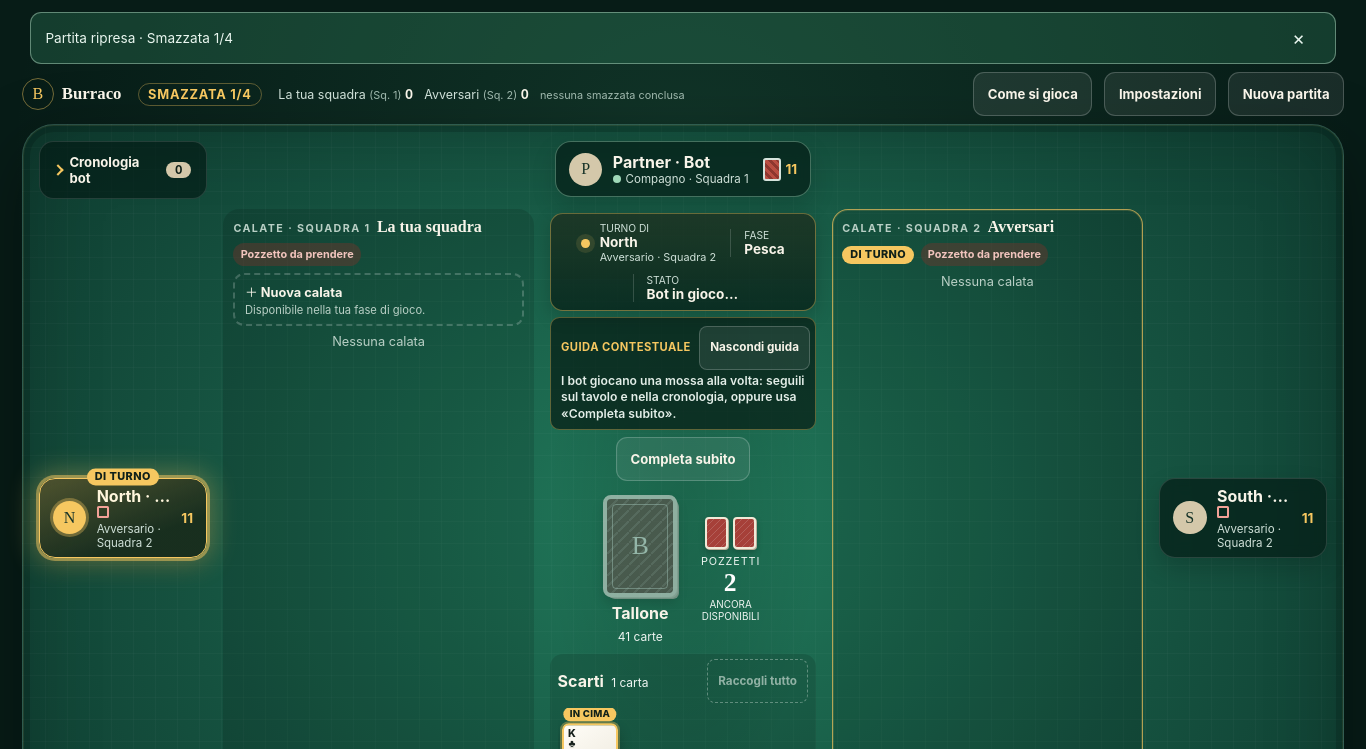
Test: App M31 audio › restores valid preferences after a reload
Click the button "Impostazioni": (1160, 94) x1=1104 y1=72 x2=1216 y2=116
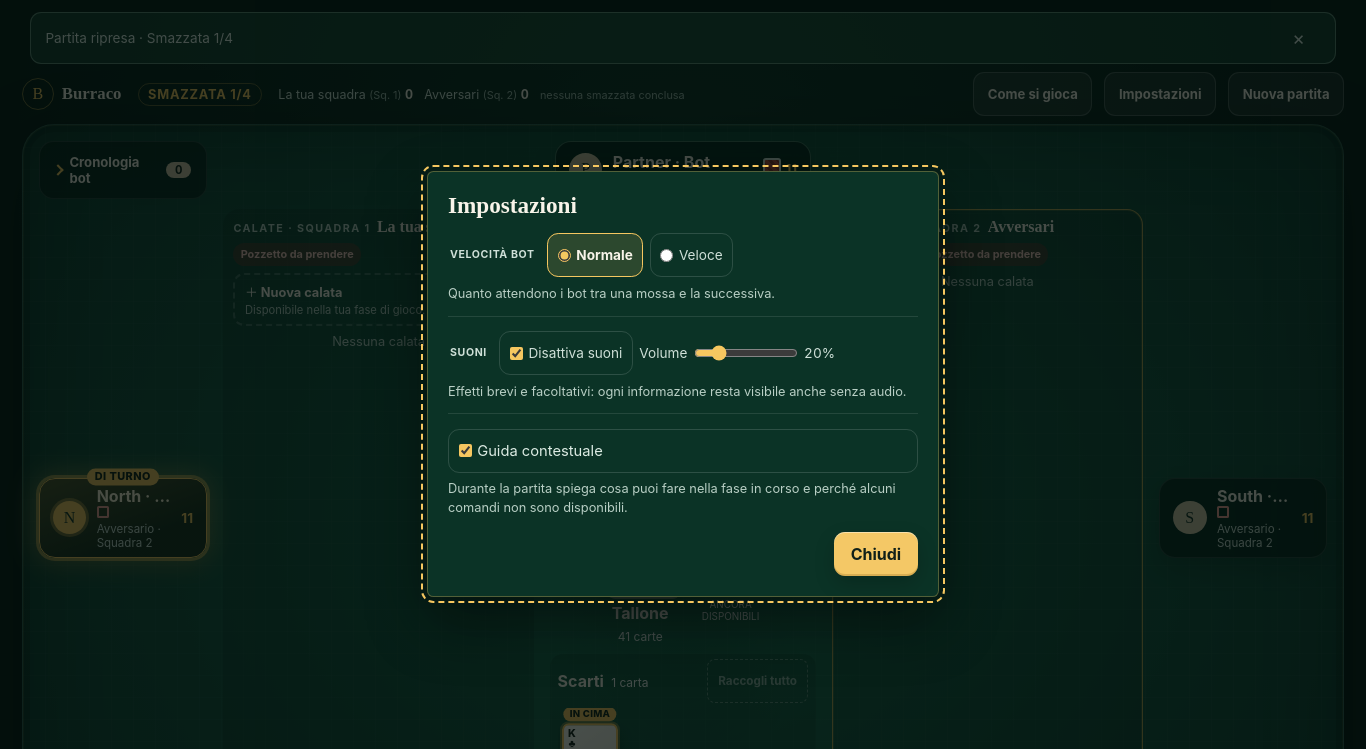
Check: the checkbox labelled "Disattiva suoni" is checked, box x1=510 y1=347 x2=523 y2=360
Check: the slider labelled "Volume" holds "20", box x1=694 y1=331 x2=798 y2=375
